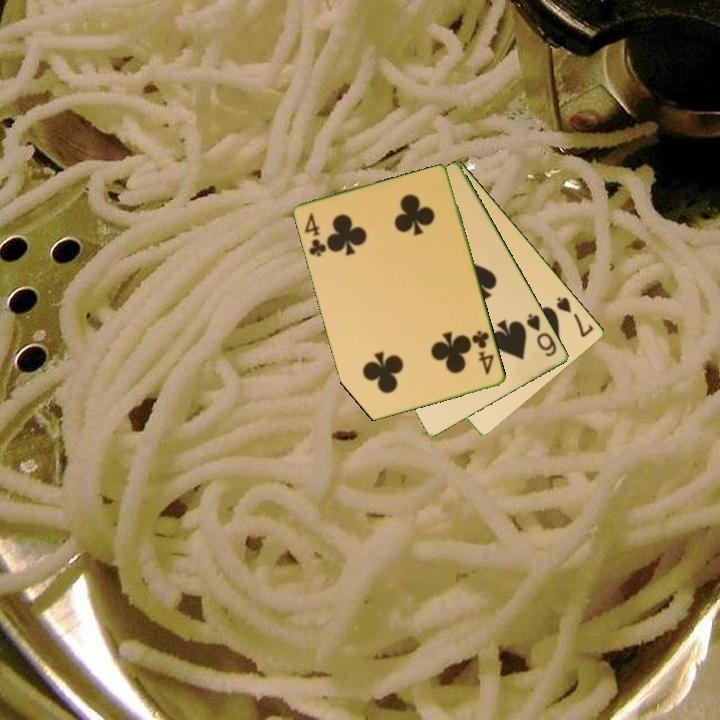4c: (301, 209, 330, 260), (468, 327, 497, 377)
6s: (523, 310, 560, 360)
7s: (553, 293, 597, 340)
